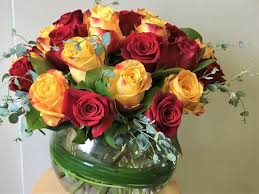lale: (108, 57, 159, 123), (23, 72, 68, 132), (62, 86, 116, 136), (56, 33, 116, 77), (174, 61, 209, 120), (116, 28, 163, 66), (86, 4, 122, 45), (155, 84, 183, 135), (172, 32, 201, 62)
